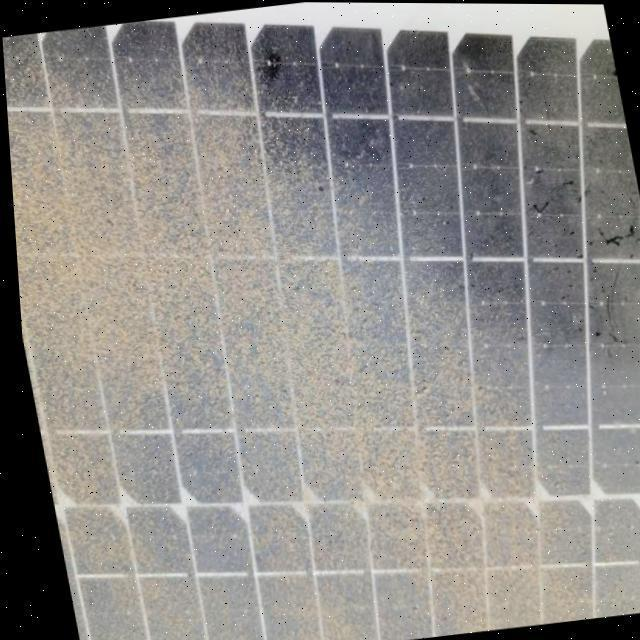Surface Contaminant: (4, 3, 640, 640)
